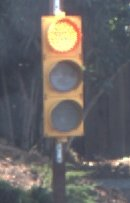Red: (35, 11, 91, 140)
